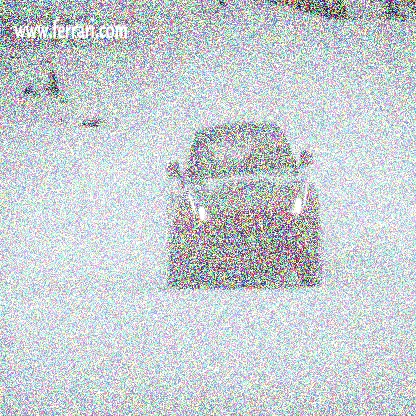Vehicle: (164, 112, 327, 298)
